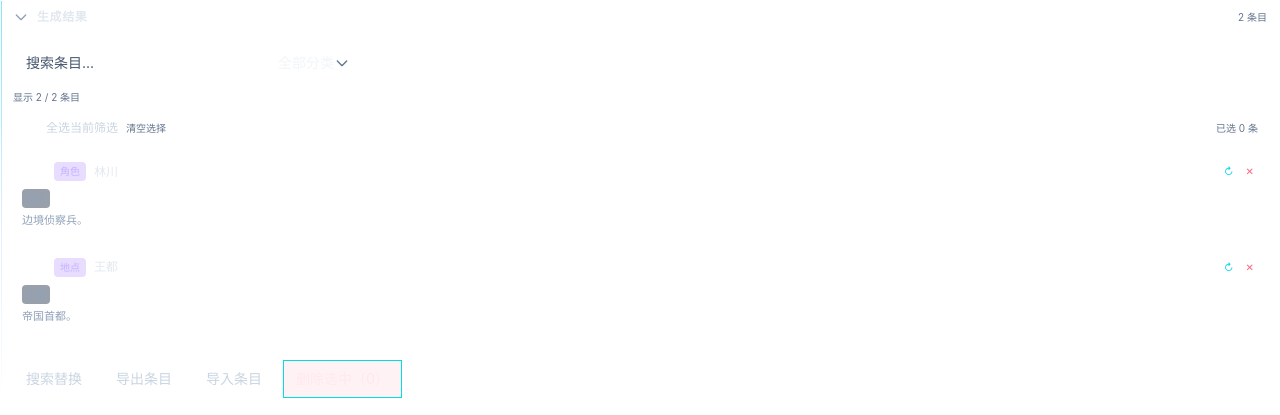
Scenario: non-workbench dropdown migrations › should filter generated entries by category via dropdown select
Click the button "全部分类".
click(314, 63)  # box x1=265 y1=44 x2=363 y2=82
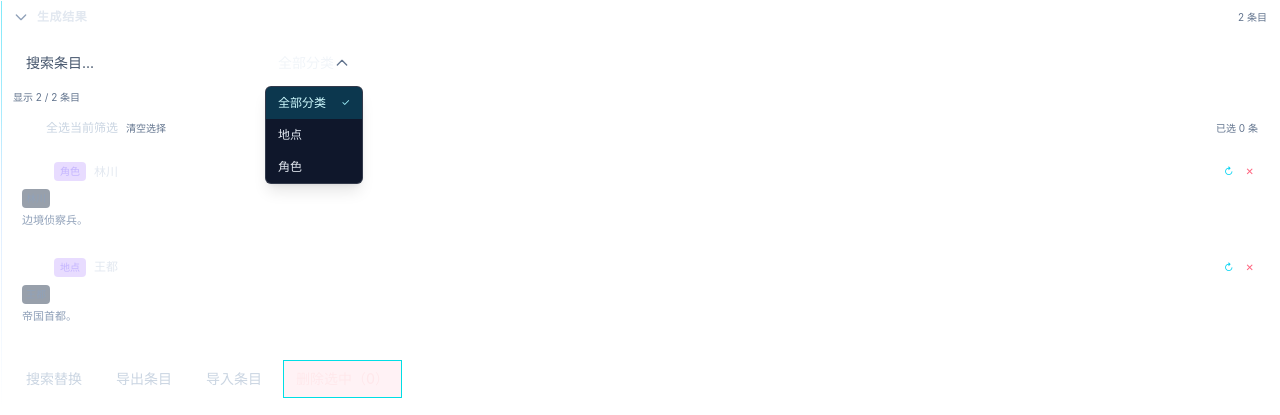
Click the option "角色".
click(314, 167)  # box x1=266 y1=151 x2=362 y2=183
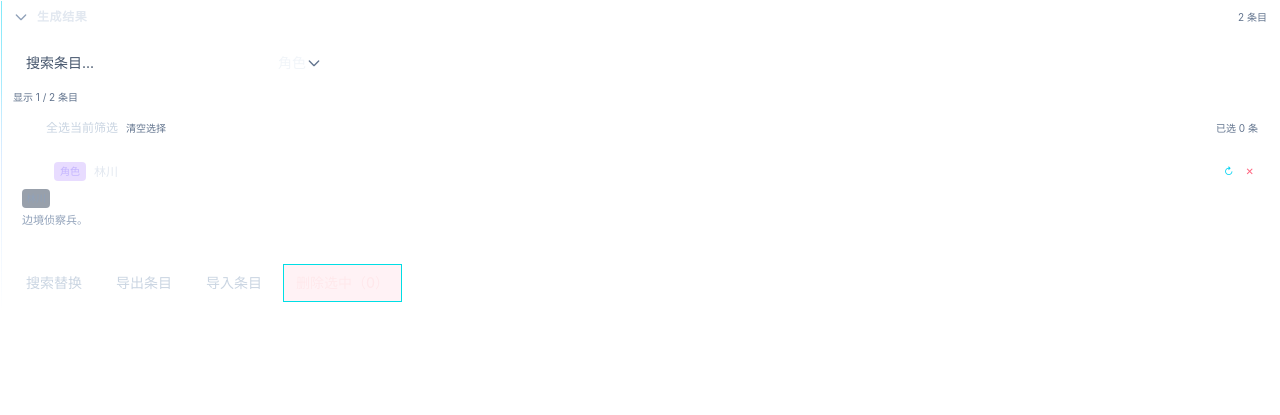
Expected: the text "林川" is shown, x1=94 y1=164 x2=118 y2=180
Expected: the text "显示 1 / 2 条目" is shown, x1=13 y1=91 x2=78 y2=103
